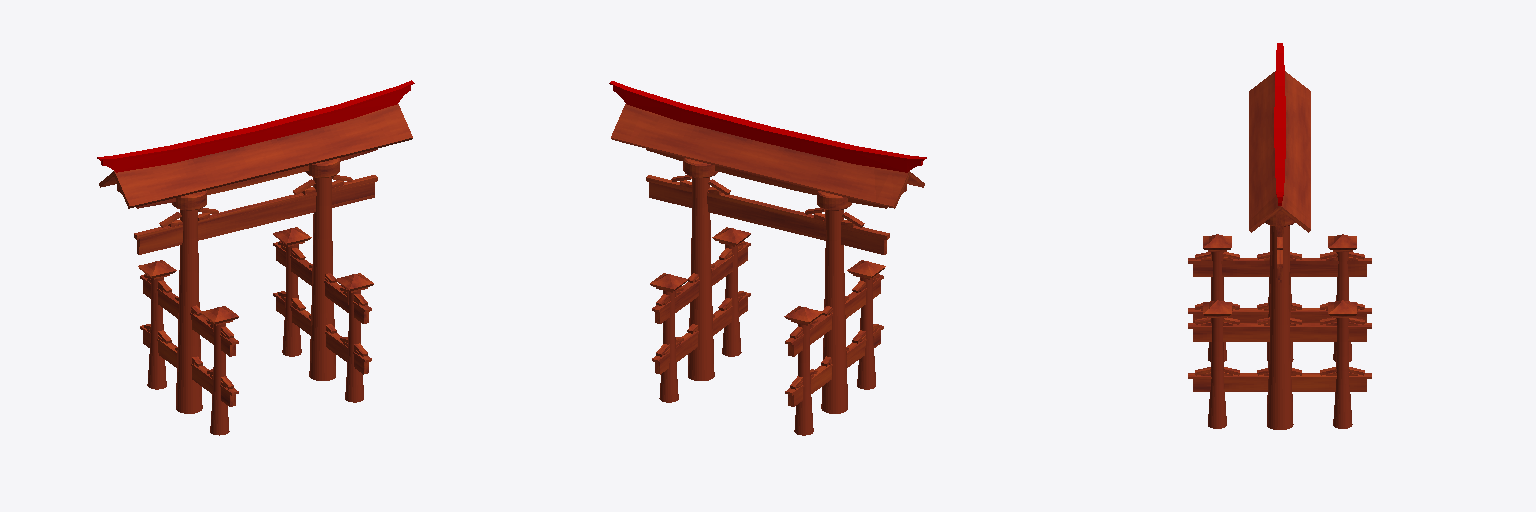
3 renders of one model, left to right at view 1: azimuth 30°, elevation 25°; view 2: azimuth 150°, elevation 25°; view 3: azimuth 270°, elevation 25°, orthographic.
Parts seen in each view (by area): view 1: 円.009_円.010; view 2: 円.009_円.010; view 3: 円.009_円.010.
Boxes of the visible parts, x1=… form: 円.009_円.010: x1=97, y1=80, x2=414, y2=435; 円.009_円.010: x1=609, y1=81, x2=926, y2=435; 円.009_円.010: x1=1188, y1=43, x2=1371, y2=429.
Bounding box in the file's own units: 16.48 × 13.63 × 8.34.
Materials: 2 (1 with a texture image).